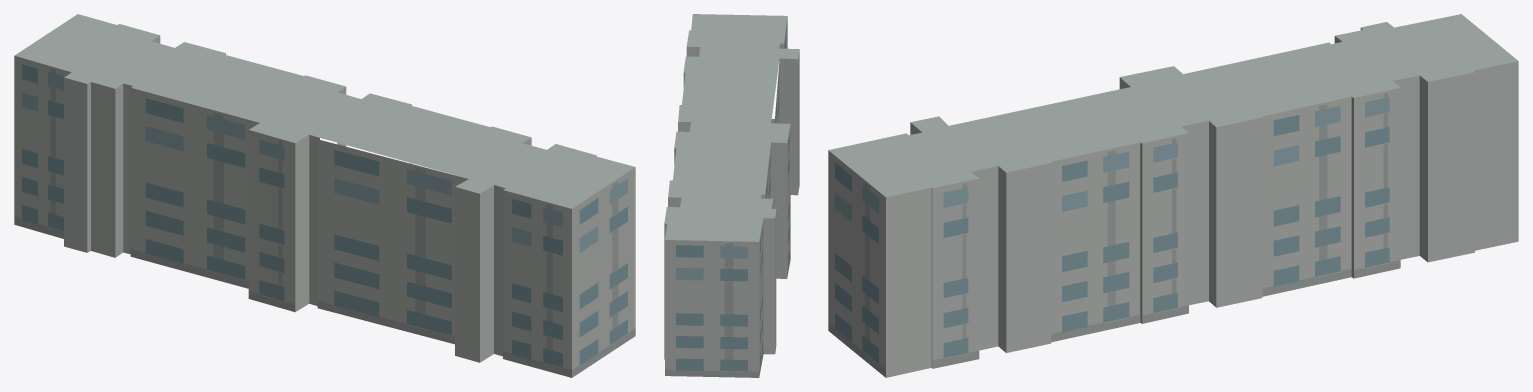
Rendered from survey-upis-32831064.glb.
3 renders of one model, left to right at view 1: azimuth 30°, elevation 25°; view 2: azimuth 150°, elevation 25°; view 3: azimuth 270°, elevation 25°, orthographic. The views are drawn at different scales.
Parts seen in each view (by area): view 1: survey-upis-32831064.tmp; view 2: survey-upis-32831064.tmp; view 3: survey-upis-32831064.tmp.
Part boxes in pixels (x1,y1,x2,y2): survey-upis-32831064.tmp: (14, 14, 635, 377); survey-upis-32831064.tmp: (664, 14, 799, 377); survey-upis-32831064.tmp: (828, 14, 1518, 377).
Size of the model in its own units: 39.89 by 18.3 by 63.45.
